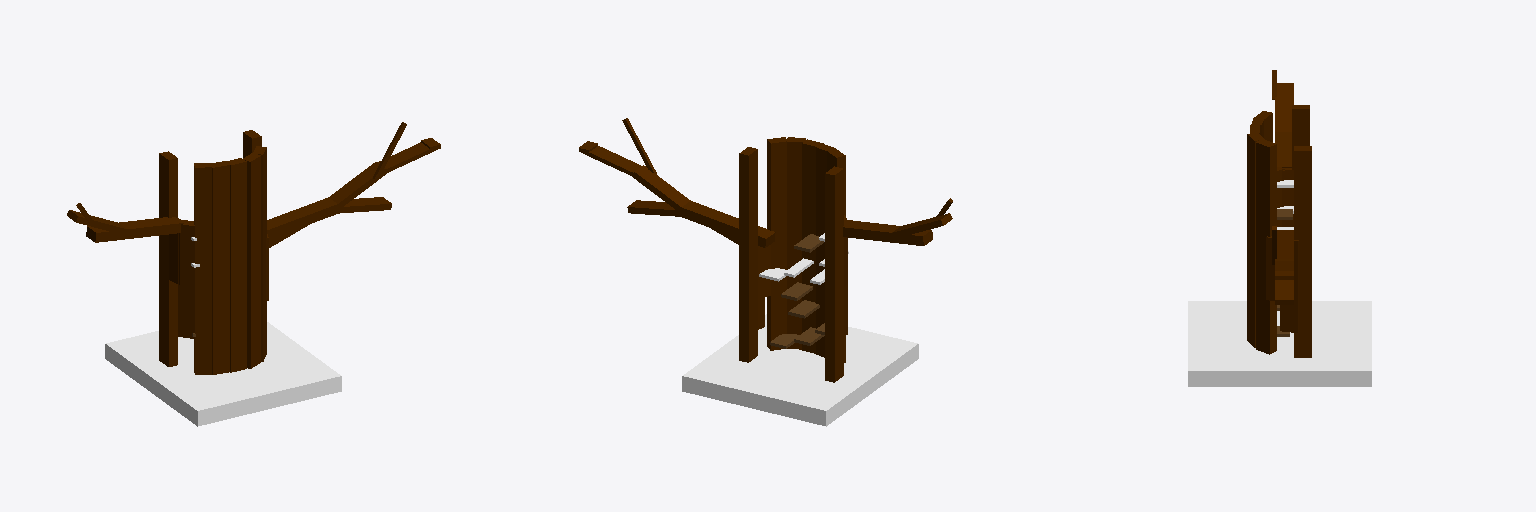
File: unityexport.obj
The picture shows the model from 3 angles: view 1: azimuth 30°, elevation 25°; view 2: azimuth 150°, elevation 25°; view 3: azimuth 270°, elevation 25°; orthographic projection.
Parts seen in each view (by area): view 1: Cube (1), Cube (3), Cube (4), Cube (2), Cube (7), Cube (9), Cube (5), Cube (26), Cube (20), Cube (10), Cube (21), Cube (23) (+2 smaller); view 2: Cube (1), Cube (8), Cube (7), Cube (10), Cube (9), Cube (2), Cube (3), Cube (20), Cube (26), Cube (21), Cube (23), Cube (27) (+2 smaller); view 3: Cube (1), Cube (10), Cube (8), Cube (9), Cube (27), Cube (12), Cube (7), Cube (26).
Part boxes in pixels (bbox=[...]): Cube (1): bbox=[105, 322, 341, 426]; Cube (3): bbox=[212, 161, 229, 374]; Cube (4): bbox=[194, 163, 212, 374]; Cube (2): bbox=[227, 158, 246, 372]; Cube (7): bbox=[159, 151, 177, 366]; Cube (9): bbox=[243, 153, 260, 368]; Cube (5): bbox=[178, 220, 194, 338]; Cube (26): bbox=[86, 217, 183, 242]; Cube (20): bbox=[267, 197, 341, 237]; Cube (10): bbox=[253, 146, 266, 361]; Cube (21): bbox=[329, 162, 386, 206]; Cube (23): bbox=[377, 142, 437, 173]; Cube (1): bbox=[682, 314, 918, 426]; Cube (8): bbox=[739, 147, 757, 362]; Cube (7): bbox=[825, 166, 843, 382]; Cube (10): bbox=[767, 137, 787, 350]; Cube (9): bbox=[787, 137, 805, 349]; Cube (2): bbox=[802, 139, 823, 353]; Cube (3): bbox=[816, 144, 835, 357]; Cube (20): bbox=[678, 201, 775, 247]; Cube (26): bbox=[843, 220, 932, 245]; Cube (21): bbox=[632, 165, 690, 213]; Cube (23): bbox=[581, 146, 641, 175]; Cube (27): bbox=[891, 213, 952, 238]; Cube (1): bbox=[1188, 301, 1371, 386]; Cube (10): bbox=[1256, 139, 1276, 354]; Cube (8): bbox=[1294, 146, 1311, 357]; Cube (9): bbox=[1247, 132, 1263, 347]; Cube (27): bbox=[1275, 83, 1293, 131]; Cube (12): bbox=[1280, 240, 1298, 332]; Cube (7): bbox=[1292, 105, 1309, 169]; Cube (26): bbox=[1275, 132, 1291, 167].
Size of the model in its own units: 70.63 by 41.21 by 30.91.